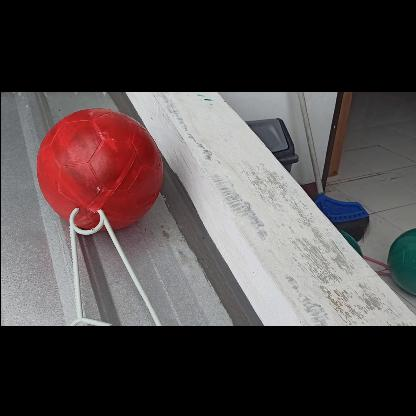red_ball: (35, 106, 159, 230)
